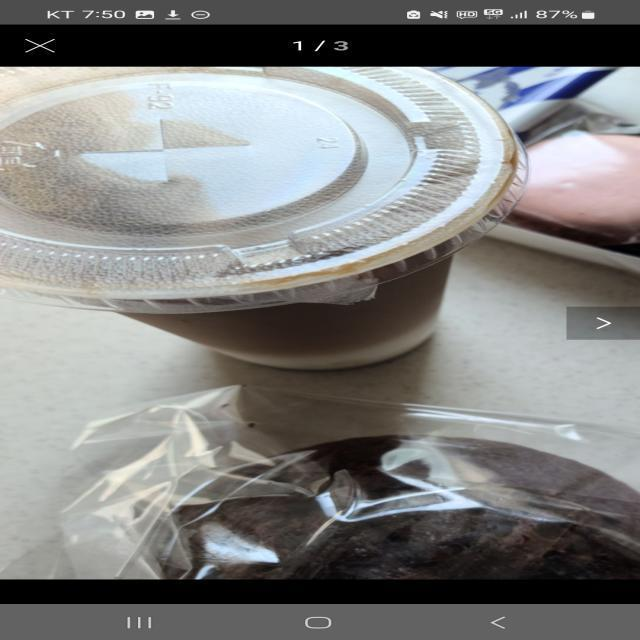cup: (0, 66, 492, 371)
